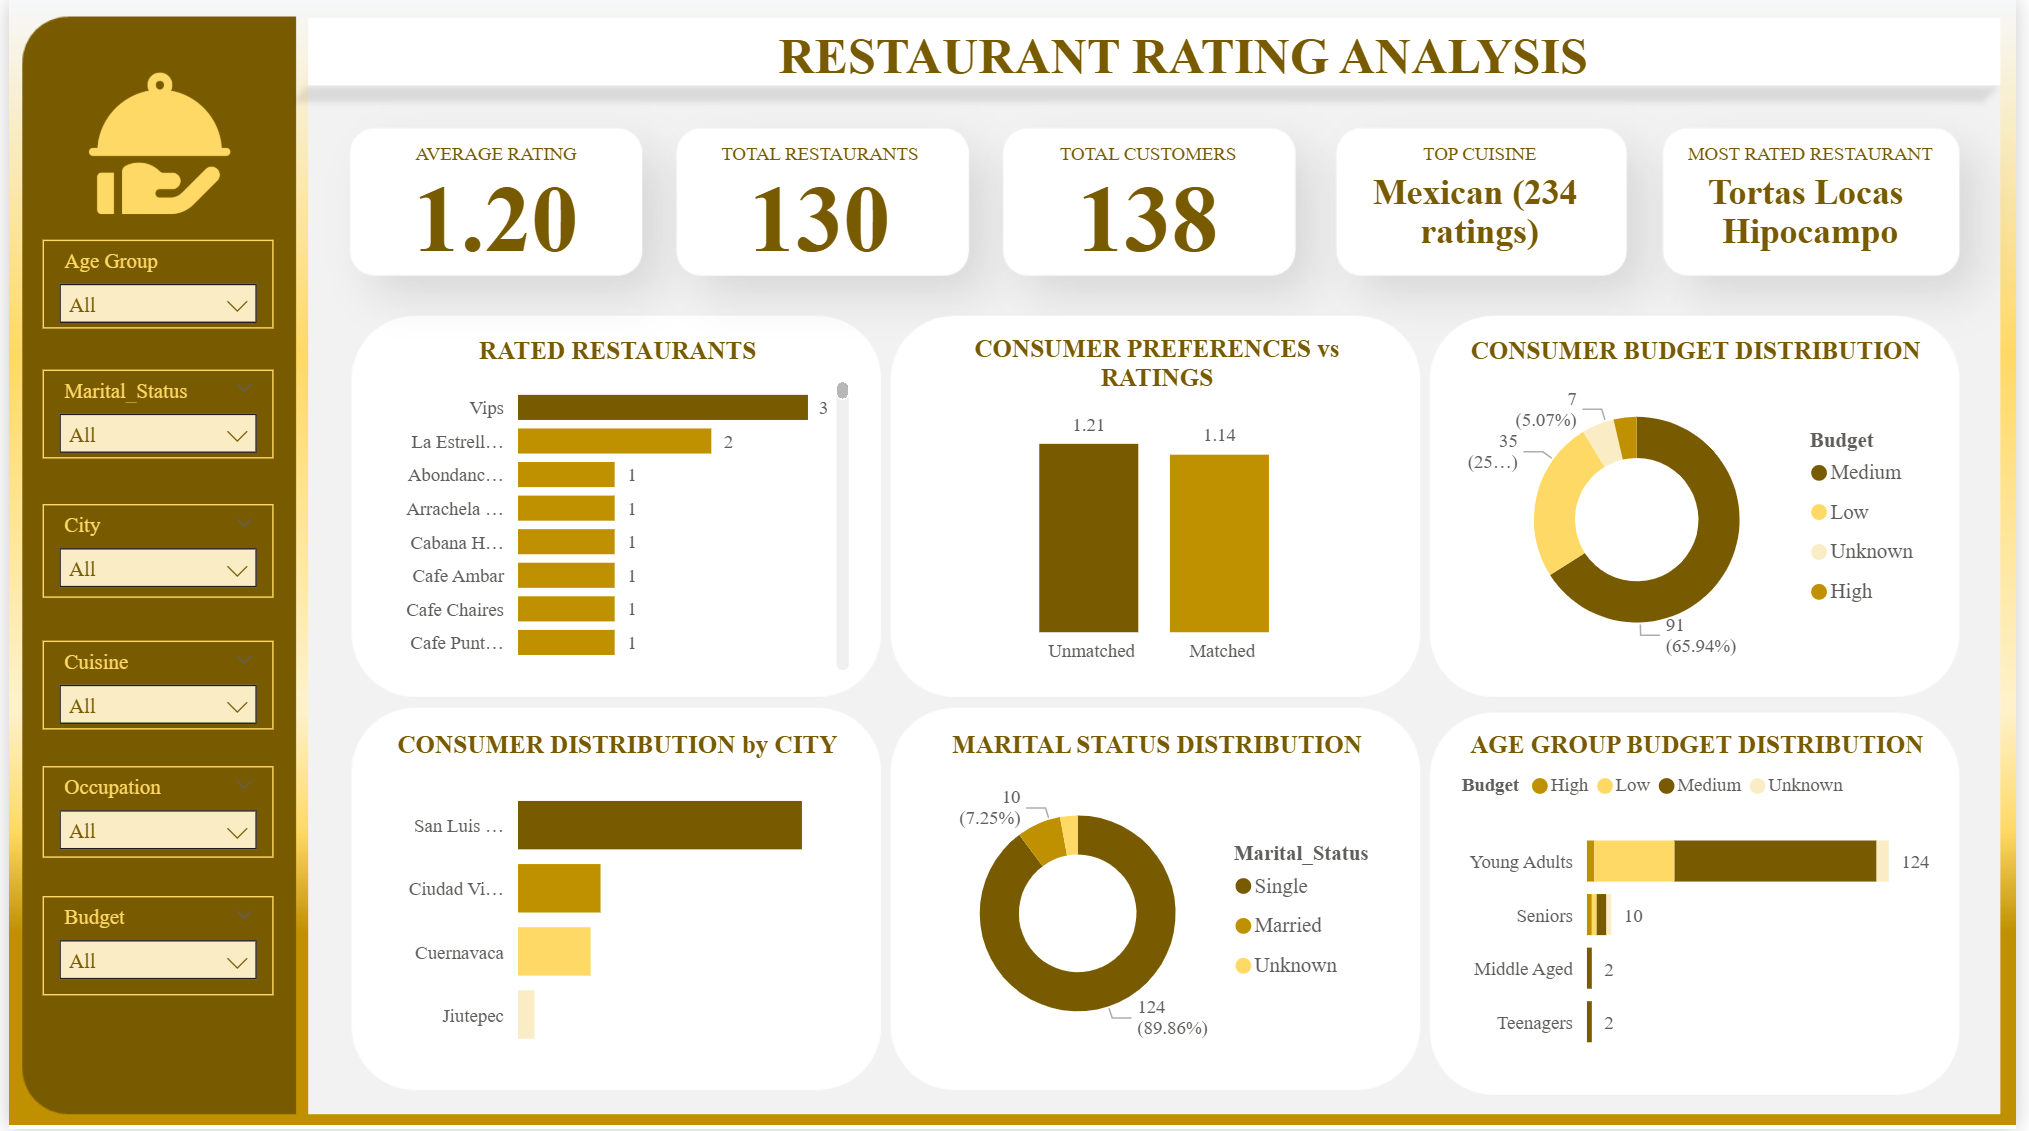

The page's visual inventory and layout, read from the dashboard file:
{"tool":"powerbi","page":{"name":"Page 1","canvas":[1280,720],"ordinal":0},"visuals":[{"type":"textbox","box":[472,0,554.8,75.7],"z":0},{"type":"card","title":"AVERAGE RATING","fields":{"Values":["Measure_Table.Average Rating"]},"box":[224,92,172.7,77.3],"z":1000},{"type":"card","title":"TOTAL RESTAURANTS","fields":{"Values":["Measure_Table.Total Restaurants"]},"box":[432,92,171.3,77.3],"z":2000},{"type":"card","title":"TOTAL CUSTOMERS","fields":{"Values":["Measure_Table.Total Customers"]},"box":[641.3,92,170,77.3],"z":3000},{"type":"card","title":"TOP CUISINE","fields":{"Values":["Measure_Table.Top Cuisine"]},"box":[854.7,92,167.3,77.3],"z":4000},{"type":"card","title":"MOST RATED RESTAURANT","fields":{"Values":["Measure_Table.Most Rated Restaurant"]},"box":[1062,92,174.7,77.3],"z":5000},{"type":"clusteredBarChart","title":"RATED RESTAURANTS","fields":{"Category":["restaurants.Name"],"Y":["Count(restaurants.Restaurant_ID)"]},"box":[235,214,305,218],"z":6000},{"type":"clusteredColumnChart","title":" CONSUMER PREFERENCES vs RATINGS","fields":{"Category":["Preference Category.Preference Match"],"Y":["Measure_Table.Preference Rating by Match"]},"box":[577.1,213.5,310,218.2],"z":7000},{"type":"donutChart","title":"CONSUMER BUDGET DISTRIBUTION","fields":{"Category":["consumers.Budget"],"Y":["CountNonNull(consumers.Consumer_ID)"]},"box":[923.1,213.8,305.6,218.1],"z":8000},{"type":"donutChart","title":"  MARITAL STATUS DISTRIBUTION","fields":{"Category":["consumers.Marital_Status"],"Y":["CountNonNull(consumers.Consumer_ID)"]},"box":[577.5,466.2,310,217.5],"z":9000},{"type":"barChart","title":" AGE GROUP BUDGET DISTRIBUTION","fields":{"Series":["consumers.Budget"],"Y":["CountNonNull(consumers.Consumer_ID)"],"Category":["consumers.Age Group"]},"box":[921,466,310,219],"z":10000},{"type":"barChart","title":"CONSUMER DISTRIBUTION by CITY","fields":{"Y":["CountNonNull(consumers.Consumer_ID)"],"Category":["consumers.City"]},"box":[236.4,466.4,304.5,219.1],"z":11000},{"type":"slicer","fields":{"Values":["consumers.Age Group"]},"box":[22,153,147.5,56.7],"z":12000},{"type":"slicer","fields":{"Values":["consumers.Marital_Status"]},"box":[22,236.3,147.5,56.7],"z":13000},{"type":"slicer","fields":{"Values":["consumers.City"]},"box":[22,321.3,147.5,60],"z":14000},{"type":"slicer","fields":{"Values":["restaurant_cuisines.Cuisine"]},"box":[22,408,147.5,56.7],"z":15000},{"type":"slicer","fields":{"Values":["consumers.Occupation"]},"box":[22,488.8,147.5,58.3],"z":16000},{"type":"slicer","fields":{"Values":["consumers.Budget"]},"box":[22,571.3,147.5,63.3],"z":17000},{"type":"image","box":[44,42,104,100],"z":18000}]}

Visuals, with their boxes in screenshot pixels (x1, y1, x2, y2), scaled from the page's 1280x720 canvas onto the 2029x1131 screenshot:
textbox: (748,0,1628,119)
"AVERAGE RATING" card: (355,145,629,266)
"TOTAL RESTAURANTS" card: (685,145,956,266)
"TOTAL CUSTOMERS" card: (1017,145,1286,266)
"TOP CUISINE" card: (1355,145,1620,266)
"MOST RATED RESTAURANT" card: (1683,145,1960,266)
"RATED RESTAURANTS" clusteredBarChart: (373,336,856,679)
" CONSUMER PREFERENCES vs RATINGS" clusteredColumnChart: (915,335,1406,678)
"CONSUMER BUDGET DISTRIBUTION" donutChart: (1463,336,1948,678)
"  MARITAL STATUS DISTRIBUTION" donutChart: (915,732,1407,1074)
" AGE GROUP BUDGET DISTRIBUTION" barChart: (1460,732,1951,1076)
"CONSUMER DISTRIBUTION by CITY" barChart: (375,733,857,1077)
slicer - consumers.Age Group: (35,240,269,329)
slicer - consumers.Marital_Status: (35,371,269,460)
slicer - consumers.City: (35,505,269,599)
slicer - restaurant_cuisines.Cuisine: (35,641,269,730)
slicer - consumers.Occupation: (35,768,269,859)
slicer - consumers.Budget: (35,897,269,997)
image: (70,66,235,223)
